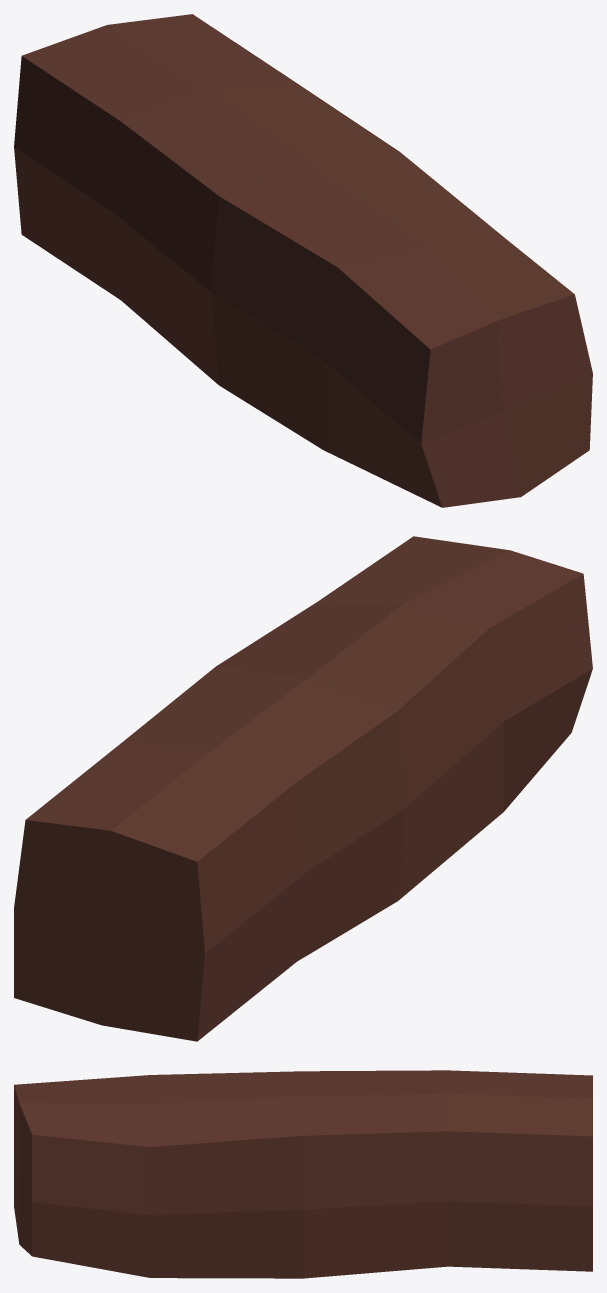
Rendered from WoodHorizontalPost4x4003.fbx.
3 renders of one model, top to bottom at view 1: azimuth 30°, elevation 25°; view 2: azimuth 150°, elevation 25°; view 3: azimuth 270°, elevation 25°, orthographic. The views are drawn at different scales.
Visible parts, largest first — view 1: WoodHorizontalPost4x4003; view 2: WoodHorizontalPost4x4003; view 3: WoodHorizontalPost4x4003.
Part boxes in pixels (x1,y1,x2,y2): WoodHorizontalPost4x4003: (14, 14, 592, 507); WoodHorizontalPost4x4003: (14, 536, 592, 1041); WoodHorizontalPost4x4003: (14, 1070, 592, 1278).
Bounding box in the file's own units: 58.32 × 58.09 × 201.
